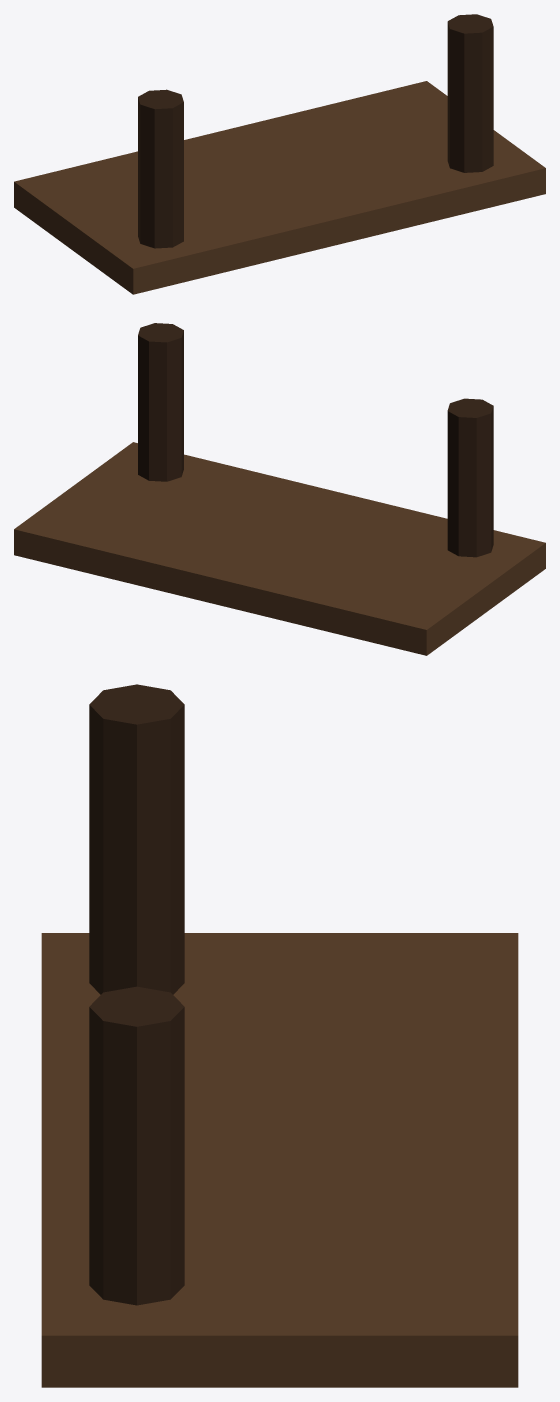
Rendered from AUR_Dock_End.obj.
3 views of the same model, one above another, from view 1: azimuth 30°, elevation 25°; view 2: azimuth 150°, elevation 25°; view 3: azimuth 270°, elevation 25° (orthographic). The views are drawn at different scales.
Parts seen in each view (by area): view 1: deck_0, bollard_2, bollard_1; view 2: deck_0, bollard_1, bollard_2; view 3: deck_0, bollard_2, bollard_1.
Part boxes in pixels (x1,y1,x2,y2): deck_0: (14, 81, 545, 294); bollard_2: (447, 14, 493, 172); bollard_1: (138, 89, 183, 248); deck_0: (14, 442, 545, 655); bollard_1: (447, 398, 493, 557); bollard_2: (138, 323, 183, 481); deck_0: (41, 933, 518, 1387); bollard_2: (89, 986, 184, 1305); bollard_1: (89, 684, 184, 994).
Size of the model in its own units: 2 by 0.765 by 1.
